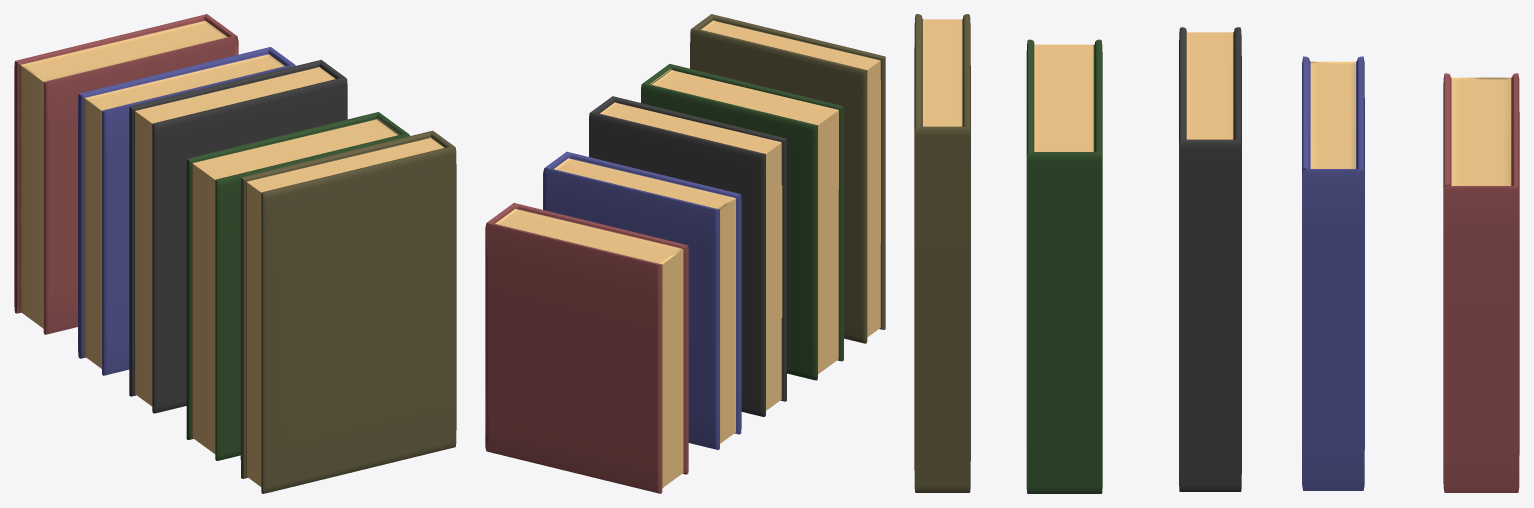
The model's file is Kitaplar.fbx.
3 renders of one model, left to right at view 1: azimuth 30°, elevation 25°; view 2: azimuth 150°, elevation 25°; view 3: azimuth 270°, elevation 25°, orthographic. The views are drawn at different scales.
Parts seen in each view (by area): view 1: Cube.001, Cube.003, Cube.005, Cube.002, Cube.004; view 2: Cube.005, Cube.004, Cube.003, Cube.002, Cube.001; view 3: Cube.002, Cube.005, Cube.003, Cube.004, Cube.001.
Part boxes in pixels (bbox=[...]): Cube.001: bbox=[240, 130, 456, 493]; Cube.003: bbox=[129, 59, 347, 413]; Cube.005: bbox=[14, 14, 238, 334]; Cube.002: bbox=[186, 112, 409, 460]; Cube.004: bbox=[78, 47, 295, 375]; Cube.005: bbox=[485, 203, 688, 493]; Cube.004: bbox=[543, 151, 741, 449]; Cube.003: bbox=[589, 96, 786, 416]; Cube.002: bbox=[641, 64, 843, 380]; Cube.001: bbox=[690, 14, 885, 343]; Cube.002: bbox=[1026, 39, 1102, 493]; Cube.005: bbox=[1443, 73, 1519, 492]; Cube.003: bbox=[1179, 27, 1241, 491]; Cube.004: bbox=[1302, 56, 1364, 490]; Cube.001: bbox=[914, 14, 970, 492].
Bounding box in the file's own units: 0.9105 × 1.36 × 2.03.
